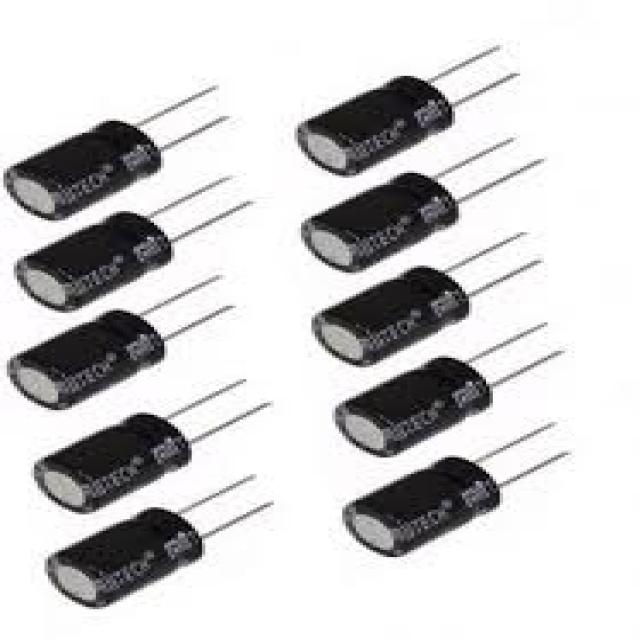Capacitor: (311, 265, 472, 370), (301, 173, 459, 275), (44, 510, 205, 609)
Resistor: (329, 263, 483, 559), (31, 412, 192, 517), (301, 171, 459, 275), (17, 211, 175, 315), (44, 510, 205, 612), (294, 78, 455, 180), (3, 121, 161, 223), (10, 311, 168, 412)
